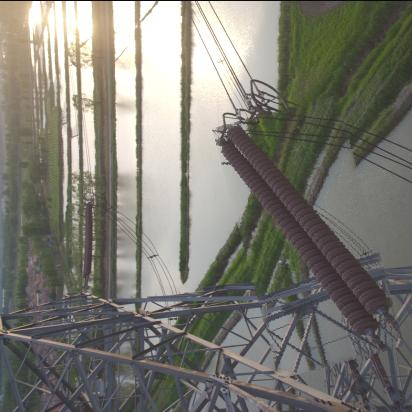insulator: (229, 101, 390, 373)
